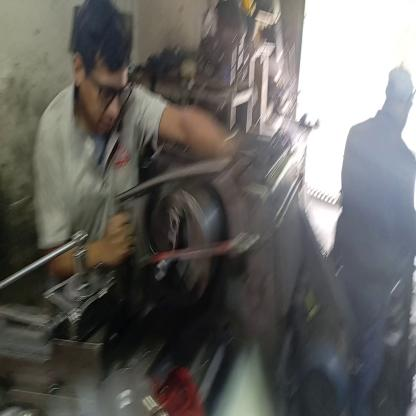lentes: (84, 69, 139, 110)
